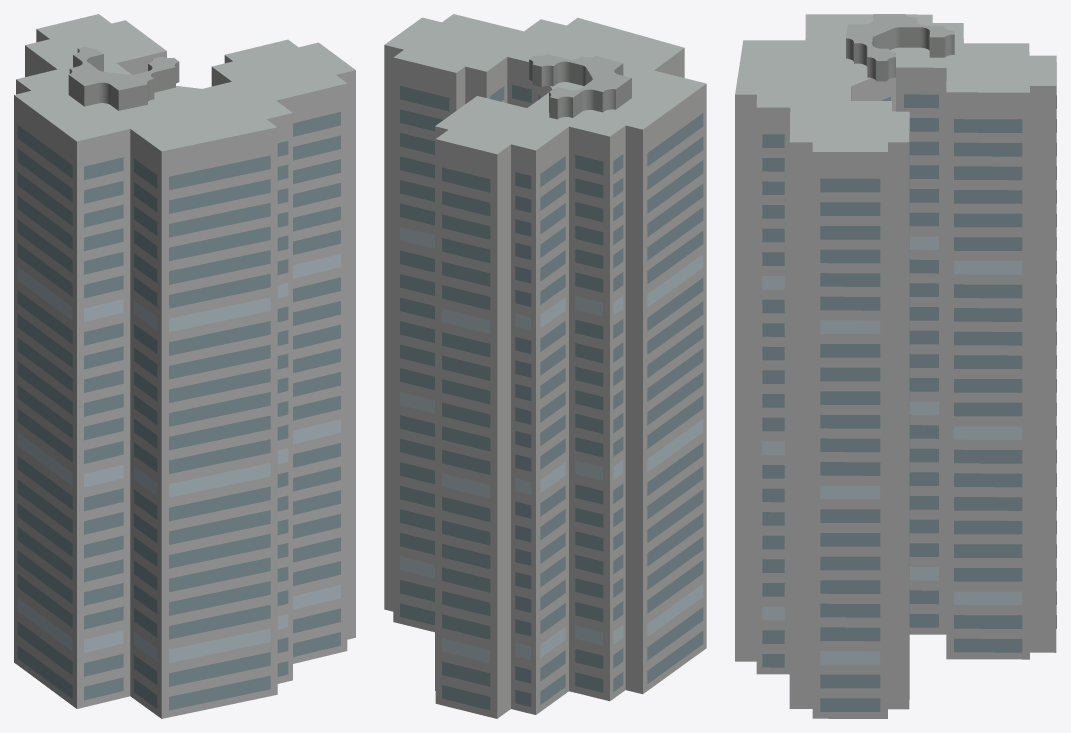
The model's file is fallback-mapo-raemian-prugio-completion-304.glb.
3 renders of one model, left to right at view 1: azimuth 30°, elevation 25°; view 2: azimuth 150°, elevation 25°; view 3: azimuth 270°, elevation 25°, orthographic.
Visible parts, largest first — view 1: fallback-mapo-raemian-prugio-completion-304; view 2: fallback-mapo-raemian-prugio-completion-304; view 3: fallback-mapo-raemian-prugio-completion-304.
Boxes of the visible parts, x1=… form: fallback-mapo-raemian-prugio-completion-304: x1=14, y1=14, x2=355, y2=718; fallback-mapo-raemian-prugio-completion-304: x1=384, y1=14, x2=706, y2=718; fallback-mapo-raemian-prugio-completion-304: x1=735, y1=14, x2=1056, y2=718.
Size of the model in its own units: 34.82 by 69 by 34.28.
